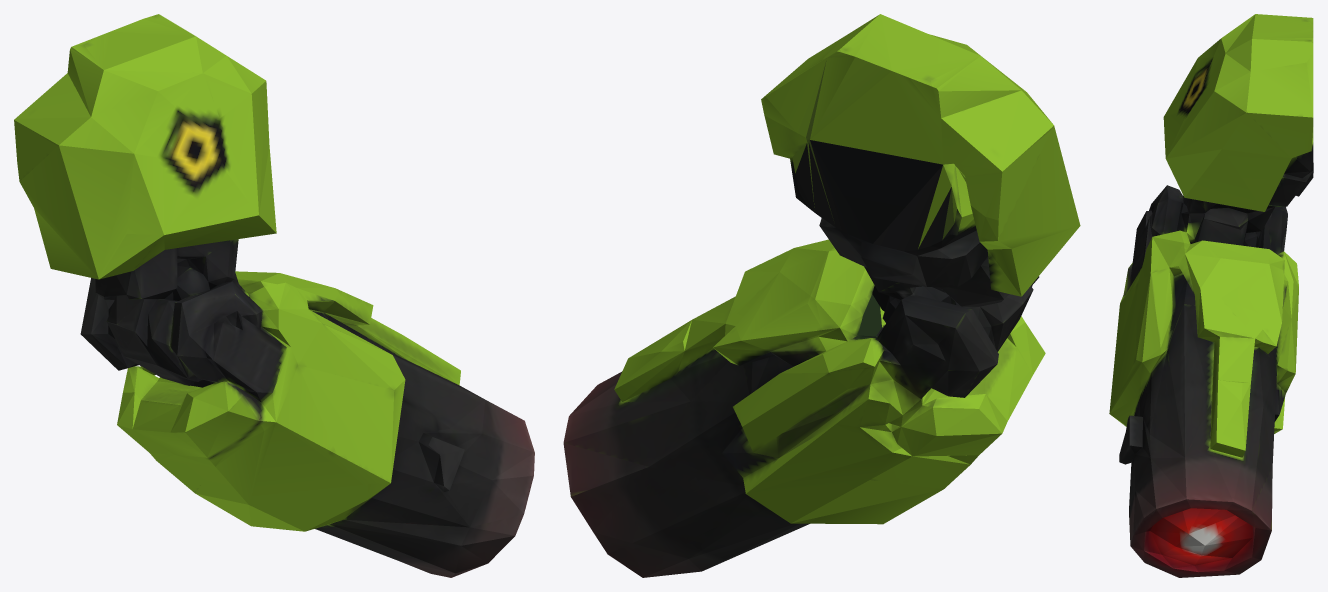
File: SM_ShooterDebris_Arm_R.fbx
3 views of the same model, side by side, from view 1: azimuth 30°, elevation 25°; view 2: azimuth 150°, elevation 25°; view 3: azimuth 270°, elevation 25° (orthographic). The views are drawn at different scales.
Visible parts, largest first — view 1: SM_ShooterDebris_Arm_R; view 2: SM_ShooterDebris_Arm_R; view 3: SM_ShooterDebris_Arm_R.
Boxes of the visible parts, x1,y1,x2,y2 form: SM_ShooterDebris_Arm_R: (14,14,534,577); SM_ShooterDebris_Arm_R: (563,14,1080,577); SM_ShooterDebris_Arm_R: (1109,14,1313,577).
Bounding box in the file's own units: 68.21 × 84.25 × 34.22.
1 material, 1 textured.
